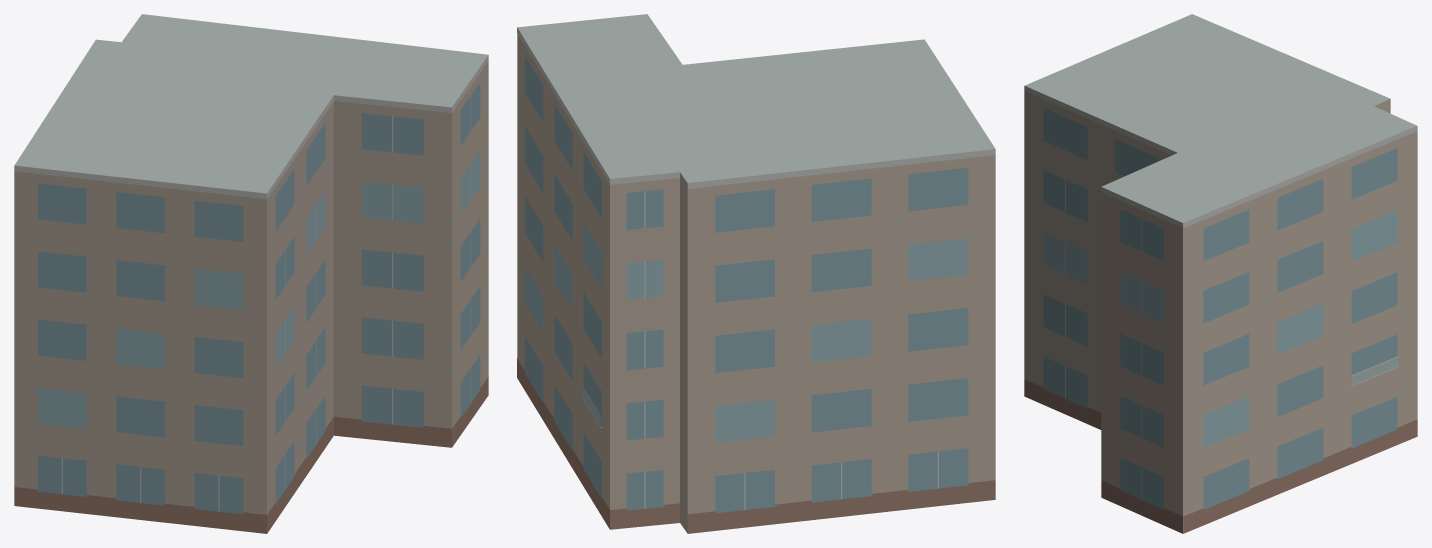
File: survey-upis-32995404.glb
3 renders of one model, left to right at view 1: azimuth 30°, elevation 25°; view 2: azimuth 150°, elevation 25°; view 3: azimuth 270°, elevation 25°, orthographic. The views are drawn at different scales.
Visible parts, largest first — view 1: survey-upis-32995404.tmp; view 2: survey-upis-32995404.tmp; view 3: survey-upis-32995404.tmp.
Boxes of the visible parts, left/top/right/bottom form: survey-upis-32995404.tmp: left=14, top=14, right=488, bottom=533; survey-upis-32995404.tmp: left=517, top=14, right=995, bottom=533; survey-upis-32995404.tmp: left=1024, top=14, right=1417, bottom=533.
Size of the model in its own units: 20.93 by 14.5 by 16.63.
